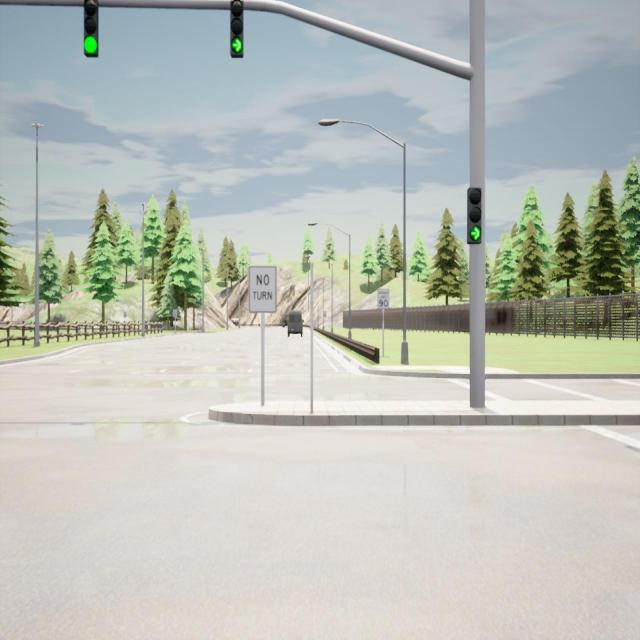Traffic_Signs: (249, 268, 276, 311), (378, 290, 389, 308)
Vehicle: (287, 311, 304, 337), (231, 319, 240, 328), (282, 320, 287, 328)
traffic_light: (467, 188, 482, 242), (84, 0, 98, 57), (231, 1, 243, 58)
